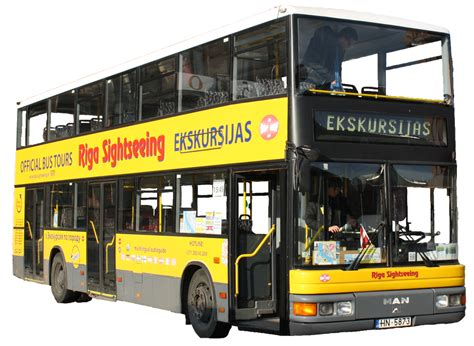bus: (16, 13, 463, 328)
person: (308, 177, 358, 243), (307, 25, 353, 86)
